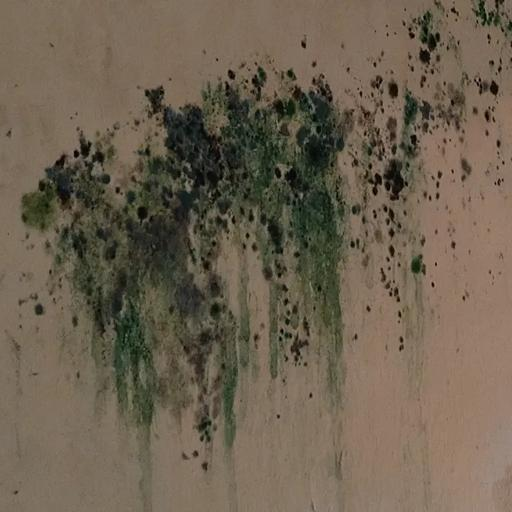algae: (23, 21, 512, 459)
